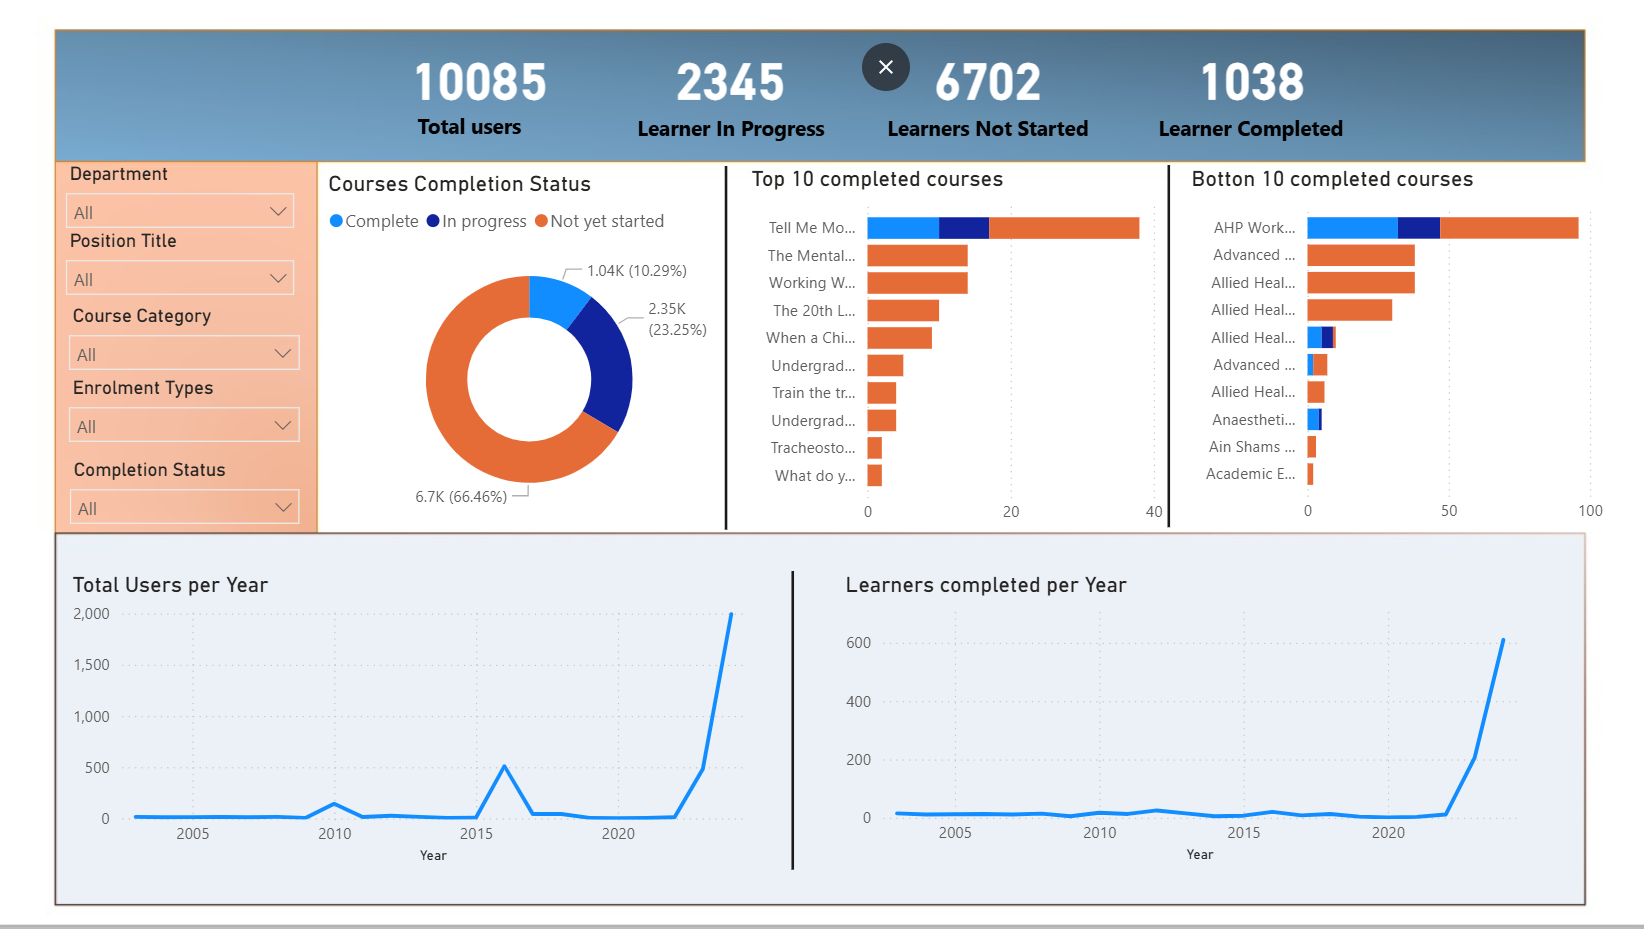

What the dashboard file says about the page in this screenshot:
{"tool":"powerbi","page":{"name":"Page 1","canvas":[1280,720],"ordinal":0},"visuals":[{"type":"slicer","fields":{"Values":["Dataset.Category"]},"box":[48.4,233.6,198.5,67.8],"z":0},{"type":"barChart","title":"Top 10 completed courses","fields":{"Series":["Dataset.Completion Status"],"Category":["Dataset.Course Name"],"Y":["CountNonNull(Dataset.User ID)"]},"box":[582.3,129.4,328.9,286.8],"z":1000},{"type":"slicer","fields":{"Values":["Dataset.Position Title"]},"box":[46,175.5,197.3,58.1],"z":2000},{"type":"slicer","fields":{"Values":["Dataset.Staff Group"]},"box":[46,123.5,197.3,76.3],"z":3000},{"type":"card","fields":{"Values":["CountNonNull(Dataset.User ID)"]},"box":[272.3,19.1,208.7,82.7],"z":4000},{"type":"card","fields":{"Values":["Dataset.Learner Completed"]},"box":[870,9,228.5,126.7],"z":5000},{"type":"card","fields":{"Values":["Dataset.Learners Not Started"]},"box":[688.4,8,200.5,126.7],"z":6000},{"type":"card","fields":{"Values":["Dataset.Learner In Progress"]},"box":[471.1,7.5,199.8,127.2],"z":7000},{"type":"slicer","fields":{"Values":["Dataset.Enrolment Types"]},"box":[48.4,289.3,198.5,70.2],"z":8000},{"type":"slicer","fields":{"Values":["Dataset.Completion Status"]},"box":[48.5,352.6,198.4,69],"z":9000},{"type":"lineChart","title":"Total Users per Year","fields":{"Y":["CountNonNull(Dataset.User ID)"],"Category":["Dataset.Date Started.Variation.Date Hierarchy.Year","Dataset.Date Started.Variation.Date Hierarchy.Quarter","Dataset.Date Started.Variation.Date Hierarchy.Month","Dataset.Date Started.Variation.Date Hierarchy.Day"]},"box":[56.1,444.3,533.8,230.8],"z":10000},{"type":"donutChart","title":"Courses Completion Status","fields":{"Series":["Dataset.Completion Status"],"Y":["CountNonNull(Dataset.Course Name)"]},"box":[254.5,133.7,321.3,277.1],"z":11000},{"type":"shape","box":[546,130.4,43.5,282.5],"z":12000},{"type":"shape","box":[888.9,130.7,45.9,280.3],"z":13000},{"type":"shape","box":[590.4,444.1,58.5,231.6],"z":14000},{"type":"textbox","box":[323.2,84,109.4,34.4],"z":15000},{"type":"barChart","title":"Botton 10 completed courses","fields":{"Series":["Dataset.Completion Status"],"Category":["Dataset.Course Name"],"Y":["CountNonNull(Dataset.User ID)"]},"box":[923.1,129.4,328.9,285.8],"z":16000},{"type":"lineChart","title":"Learners completed per Year","fields":{"Category":["Dataset.Date Started.Variation.Date Hierarchy.Year","Dataset.Date Started.Variation.Date Hierarchy.Quarter","Dataset.Date Started.Variation.Date Hierarchy.Month","Dataset.Date Started.Variation.Date Hierarchy.Day"],"Y":["Dataset.Learner Completed"]},"box":[655.3,444.1,533.1,230.3],"z":17000}]}

Visuals, with their boxes in screenshot pixels (x1, y1, x2, y2), scaled from the page's 1280x720 canvas onto the 1644x929 screenshot:
slicer - Dataset.Category: (left=62, top=301, right=317, bottom=389)
"Top 10 completed courses" barChart: (left=748, top=167, right=1170, bottom=537)
slicer - Dataset.Position Title: (left=59, top=226, right=312, bottom=301)
slicer - Dataset.Staff Group: (left=59, top=159, right=312, bottom=258)
card - CountNonNull(Dataset.User ID): (left=350, top=25, right=618, bottom=131)
card - Dataset.Learner Completed: (left=1117, top=12, right=1411, bottom=175)
card - Dataset.Learners Not Started: (left=884, top=10, right=1142, bottom=174)
card - Dataset.Learner In Progress: (left=605, top=10, right=862, bottom=174)
slicer - Dataset.Enrolment Types: (left=62, top=373, right=317, bottom=464)
slicer - Dataset.Completion Status: (left=62, top=455, right=317, bottom=544)
"Total Users per Year" lineChart: (left=72, top=573, right=758, bottom=871)
"Courses Completion Status" donutChart: (left=327, top=173, right=740, bottom=530)
shape: (left=701, top=168, right=757, bottom=533)
shape: (left=1142, top=169, right=1201, bottom=530)
shape: (left=758, top=573, right=833, bottom=872)
textbox: (left=415, top=108, right=556, bottom=153)
"Botton 10 completed courses" barChart: (left=1186, top=167, right=1608, bottom=536)
"Learners completed per Year" lineChart: (left=842, top=573, right=1526, bottom=870)
